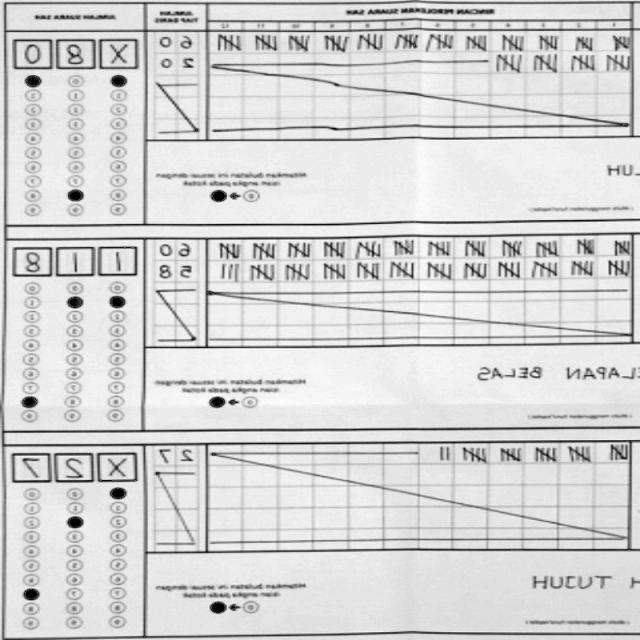Suara: (7, 240, 143, 278), (10, 33, 146, 71), (10, 445, 146, 483)
